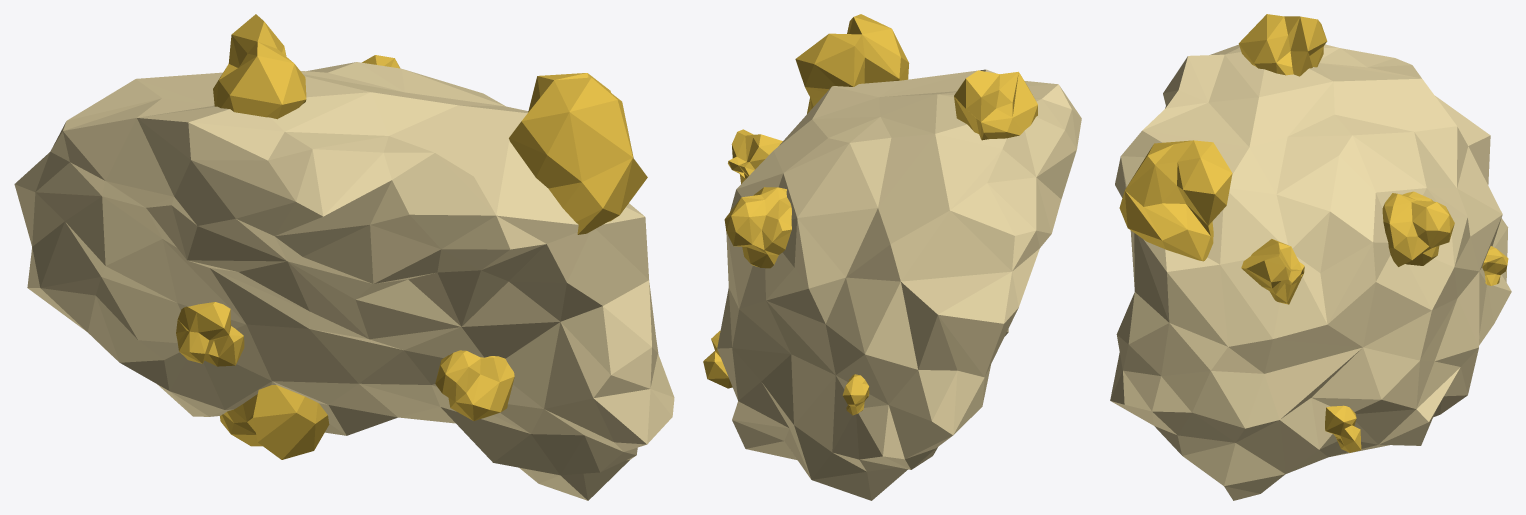
File: MetalOre (27).fbx
3 views of the same model, side by side, from view 1: azimuth 30°, elevation 25°; view 2: azimuth 150°, elevation 25°; view 3: azimuth 270°, elevation 25° (orthographic). The views are drawn at different scales.
Visible parts, largest first — view 1: Asteroid382; view 2: Asteroid382; view 3: Asteroid382.
Part boxes in pixels (bbox=[...]): Asteroid382: bbox=[14, 14, 674, 500]; Asteroid382: bbox=[703, 14, 1081, 500]; Asteroid382: bbox=[1110, 14, 1511, 500].
Size of the model in its own units: 559 by 580 by 551.
